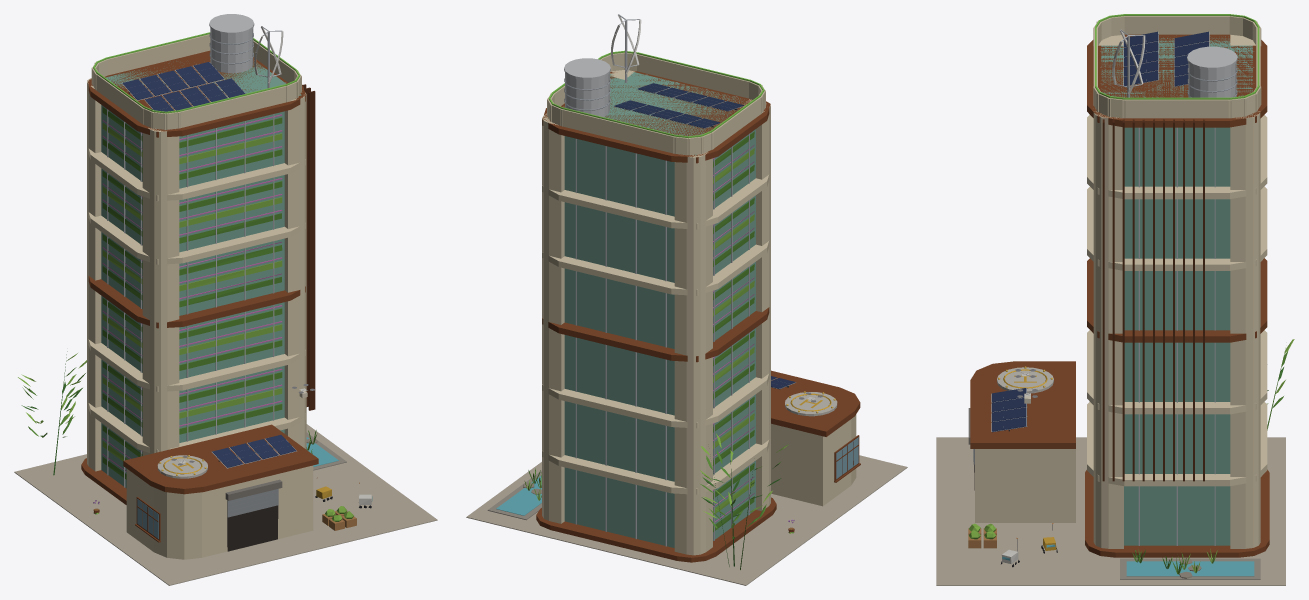
The model's file is factory_2.glb.
The picture shows the model from 3 angles, left to right: view 1: azimuth 30°, elevation 25°; view 2: azimuth 150°, elevation 25°; view 3: azimuth 270°, elevation 25°; orthographic projection. The views are drawn at different scales.
Parts seen in each view (by area): view 1: body, windows; view 2: body, windows; view 3: body, windows.
Part boxes in pixels (box(x1,y1,x2,y2)): body: box(14, 14, 437, 585); windows: box(93, 32, 372, 551); body: box(466, 14, 907, 585); windows: box(548, 50, 835, 413); body: box(936, 16, 1294, 585); windows: box(974, 14, 1259, 560).
Size of the model in its own units: 16.7 by 25.52 by 16.29.
